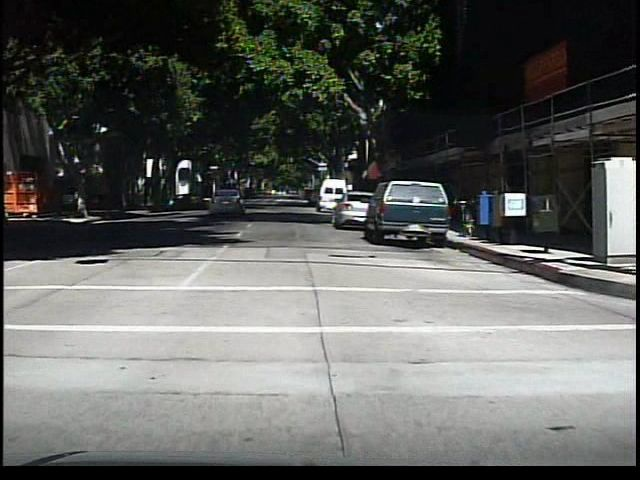person: (65, 183, 81, 219)
